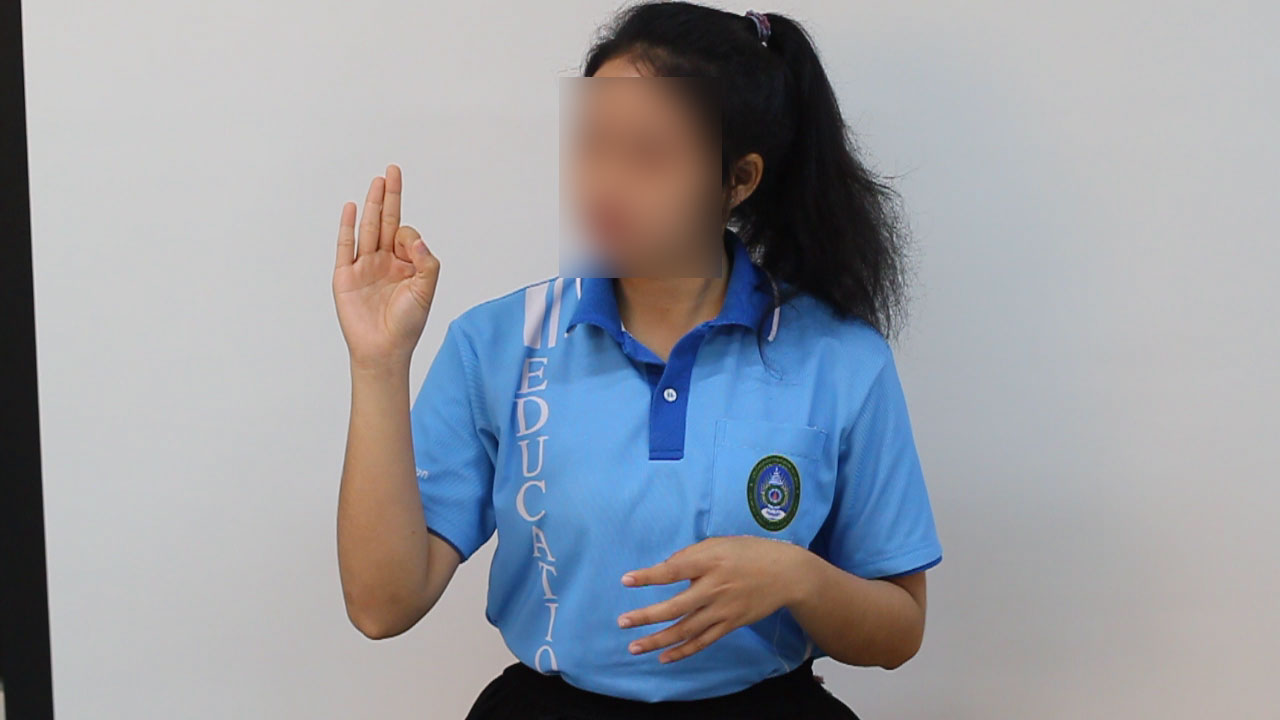for: (317, 149, 449, 386)
